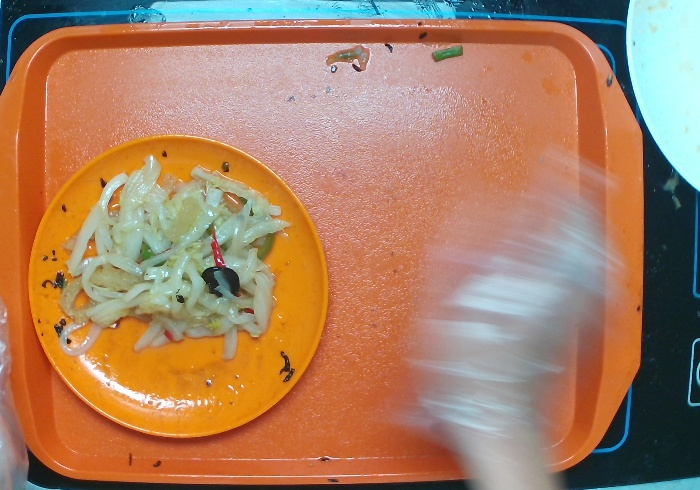HZYJPL-Ju_Huang_Yuan_Pan: (21, 129, 339, 445)
